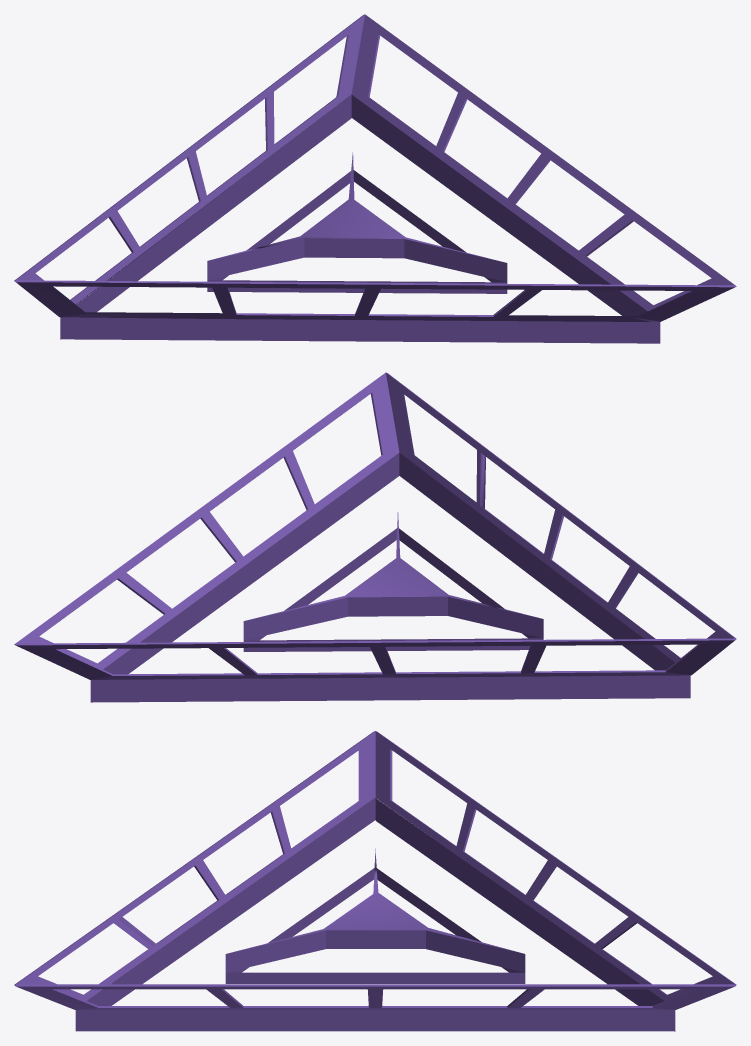
The model's file is barge_testing.glb.
3 renders of one model, top to bottom at view 1: azimuth 30°, elevation 25°; view 2: azimuth 150°, elevation 25°; view 3: azimuth 270°, elevation 25°, orthographic. The views are drawn at different scales.
Visible parts, largest first — view 1: Plane; view 2: Plane; view 3: Plane.
Part boxes in pixels (x1,y1,x2,y2): Plane: [14, 14, 736, 343]; Plane: [14, 372, 736, 702]; Plane: [14, 731, 736, 1031].
Bounding box in the file's own units: 33.28 × 4.18 × 39.95.
